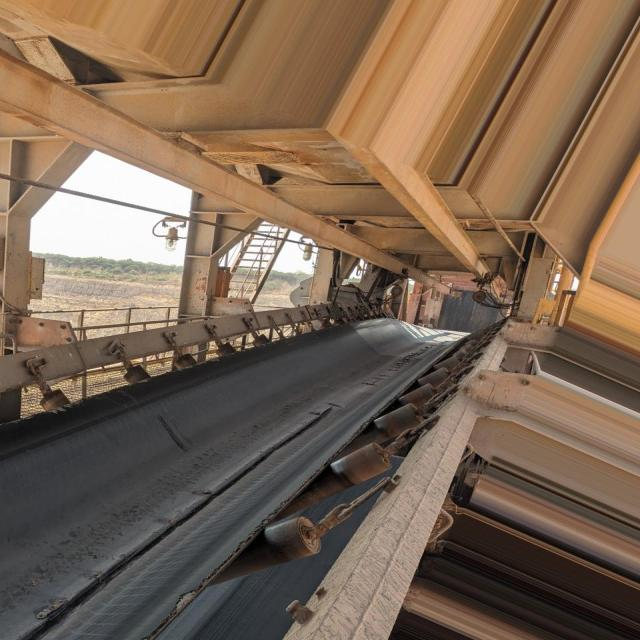Roller: (29, 313, 324, 422), (371, 345, 471, 437), (207, 517, 320, 592), (293, 440, 393, 508)
Tear: (0, 403, 338, 640)
